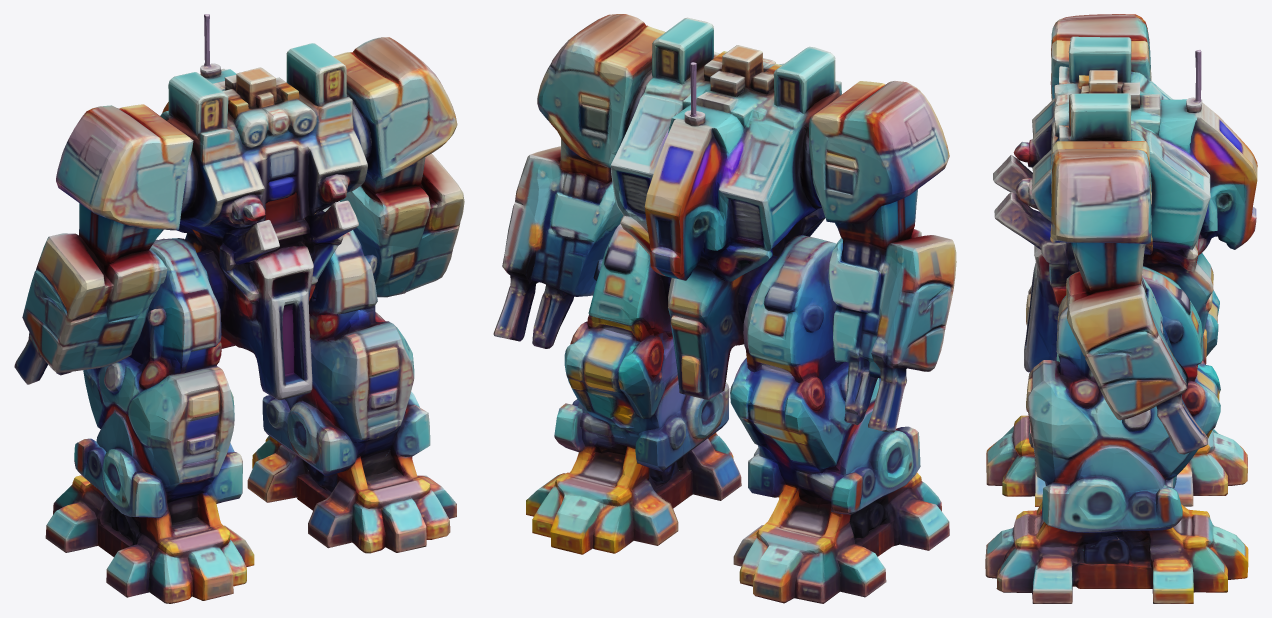
3 renders of one model, left to right at view 1: azimuth 30°, elevation 25°; view 2: azimuth 150°, elevation 25°; view 3: azimuth 270°, elevation 25°, orthographic. The views are drawn at different scales.
Visible parts, largest first — view 1: world; view 2: world; view 3: world.
Part boxes in pixels (x1,y1,x2,y2): world: (14, 14, 464, 603); world: (493, 14, 956, 603); world: (985, 14, 1257, 603).
Size of the model in its own units: 0.857 by 1 by 0.5202.
1 material, 1 textured.
